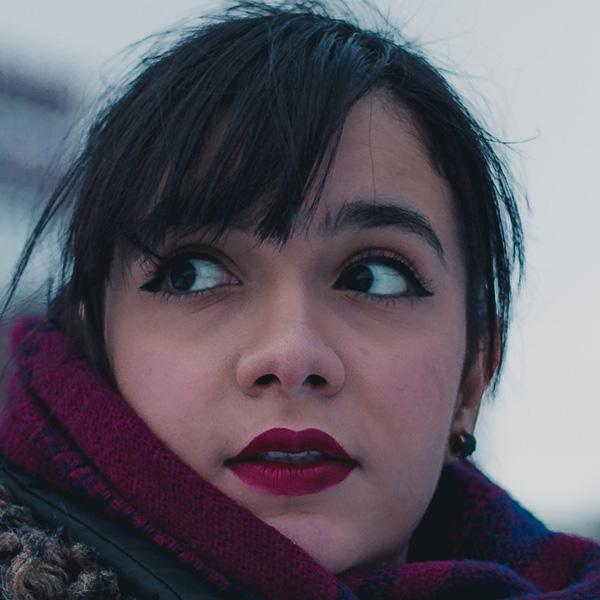Eyes: (319, 240, 436, 318), (138, 238, 250, 312)
